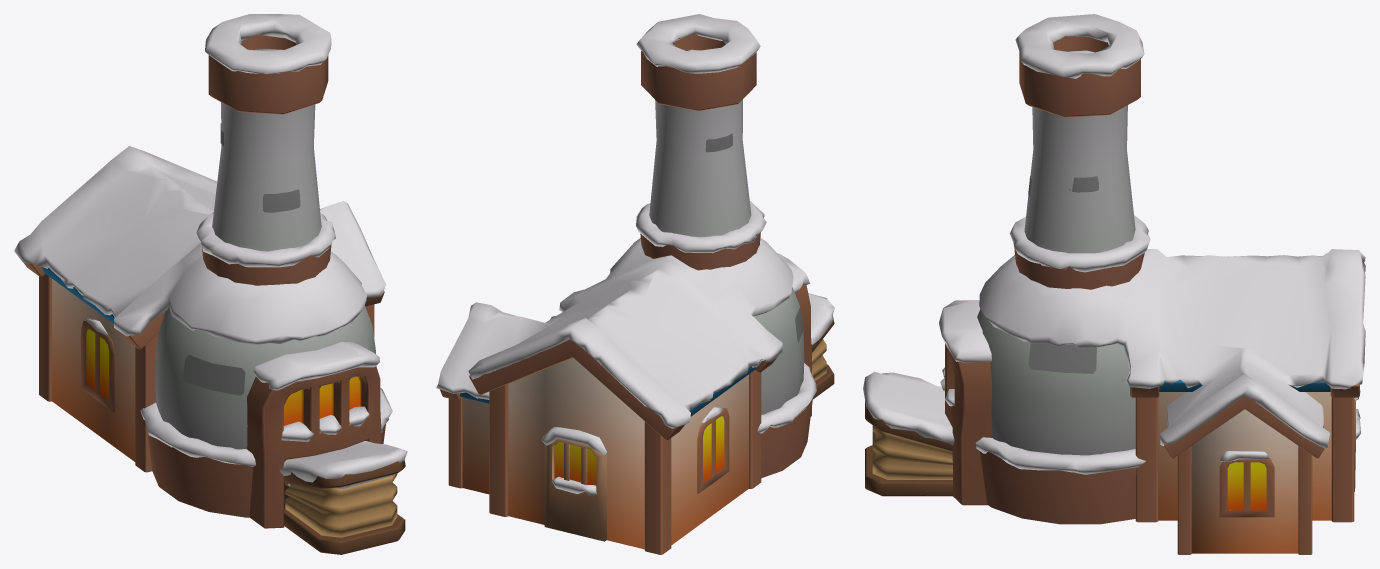
Rendered from BuildingSnowy_2.fbx.
3 renders of one model, left to right at view 1: azimuth 30°, elevation 25°; view 2: azimuth 150°, elevation 25°; view 3: azimuth 270°, elevation 25°, orthographic. The views are drawn at different scales.
Visible parts, largest first — view 1: BuildingSnowy_2; view 2: BuildingSnowy_2; view 3: BuildingSnowy_2.
Part boxes in pixels (x1,y1,x2,y2): BuildingSnowy_2: (14, 14, 407, 554); BuildingSnowy_2: (436, 14, 834, 554); BuildingSnowy_2: (863, 14, 1365, 554).
Size of the model in its own units: 308 by 458 by 473.
